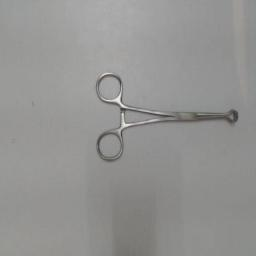Babcock Tissue Forceps: (94, 68, 240, 164)
